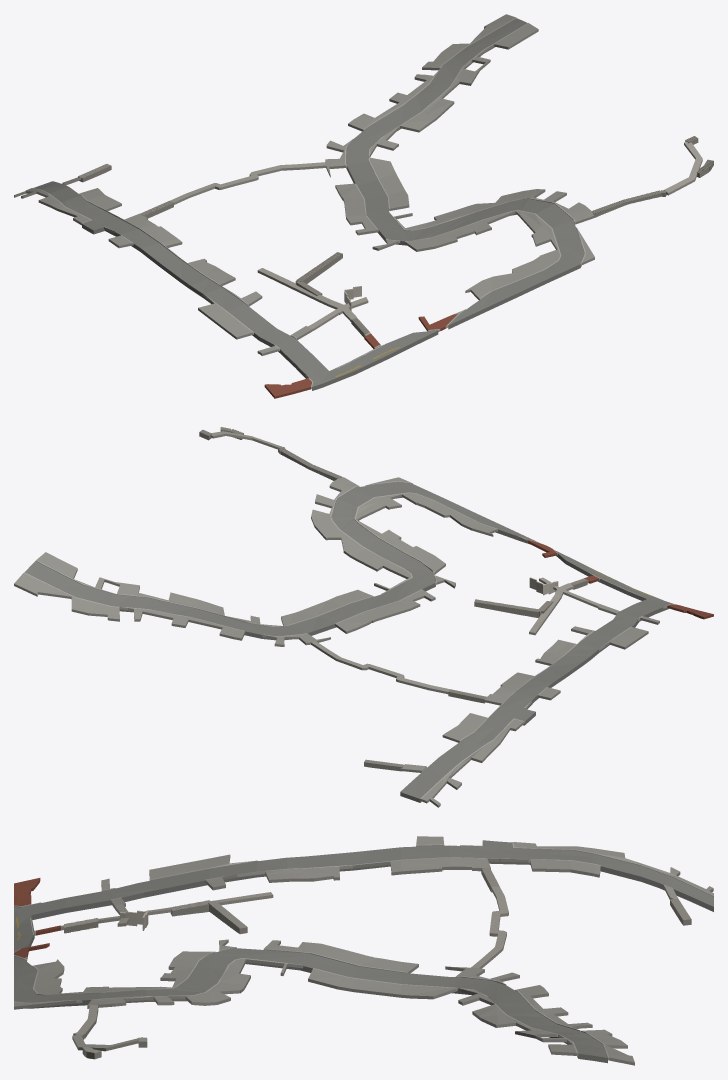
3 renders of one model, top to bottom at view 1: azimuth 30°, elevation 25°; view 2: azimuth 150°, elevation 25°; view 3: azimuth 270°, elevation 25°, orthographic. The views are drawn at different scales.
Size of the model in its own units: 147 by 33.17 by 146.
